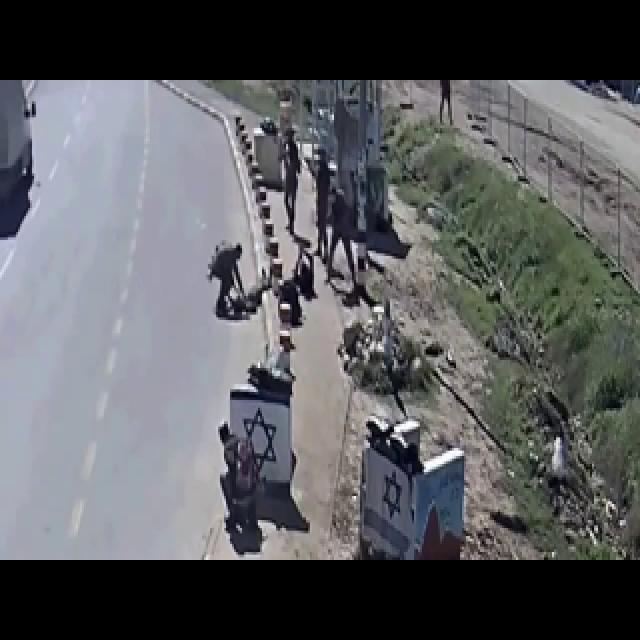shooting: (110, 82, 508, 520)
